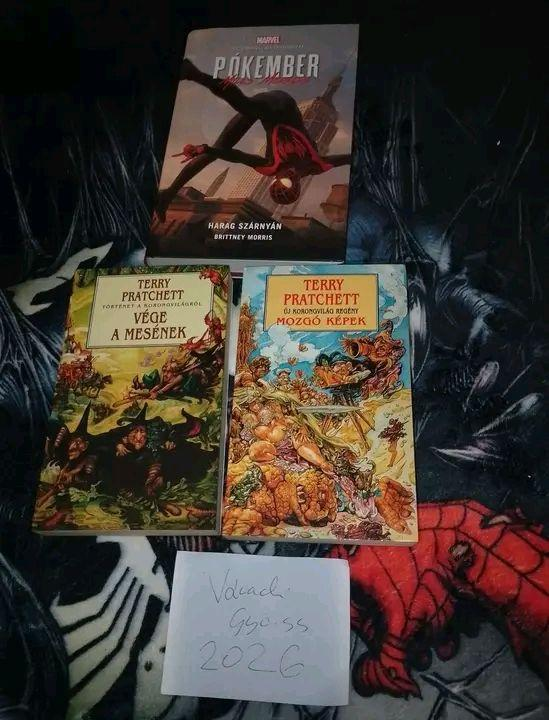comic: (223, 262, 422, 543), (33, 259, 231, 539), (147, 15, 358, 272)
